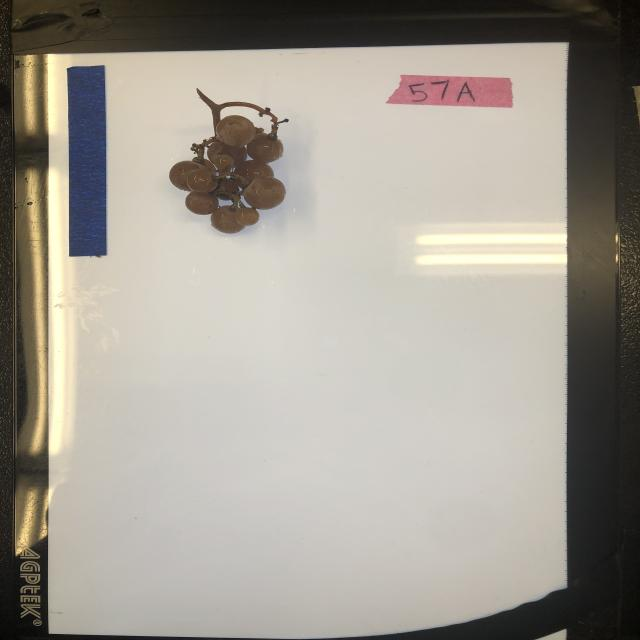grape_cluster: (168, 86, 290, 235)
index: (386, 73, 514, 110)
measure_label: (66, 65, 111, 258)
